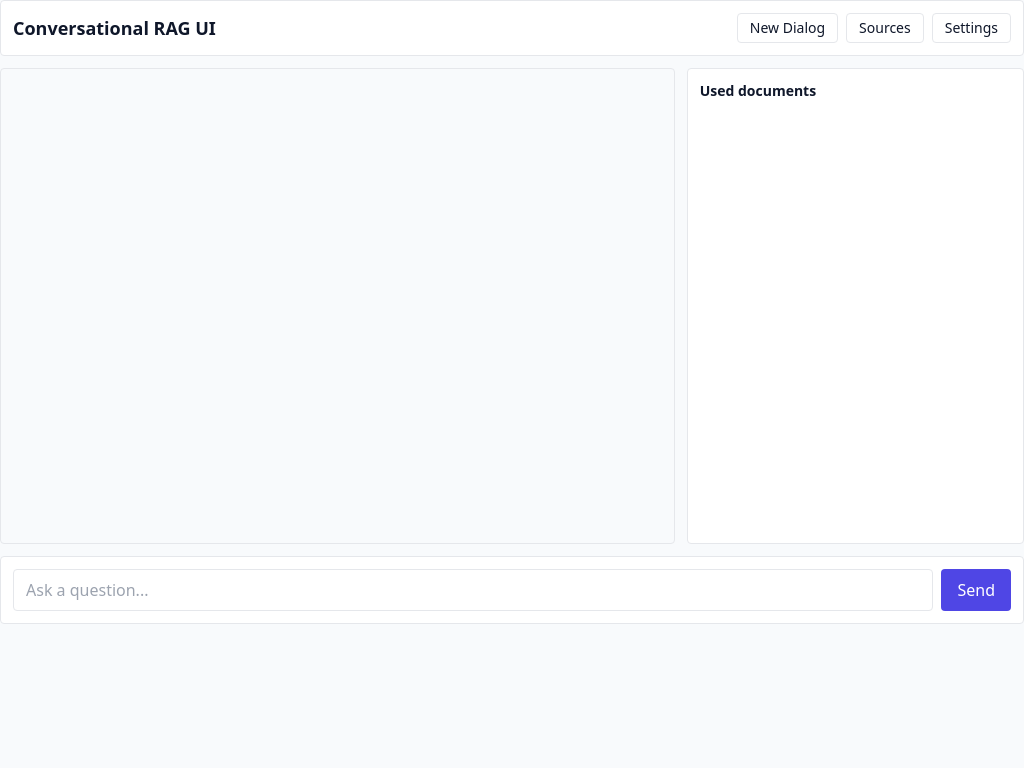
Test: QueryPage conversational UI › allows debug toggle for admin and renders debug fields with agent trace
Click the button "Settings".
click(971, 28)  # box [932,13,1011,43]
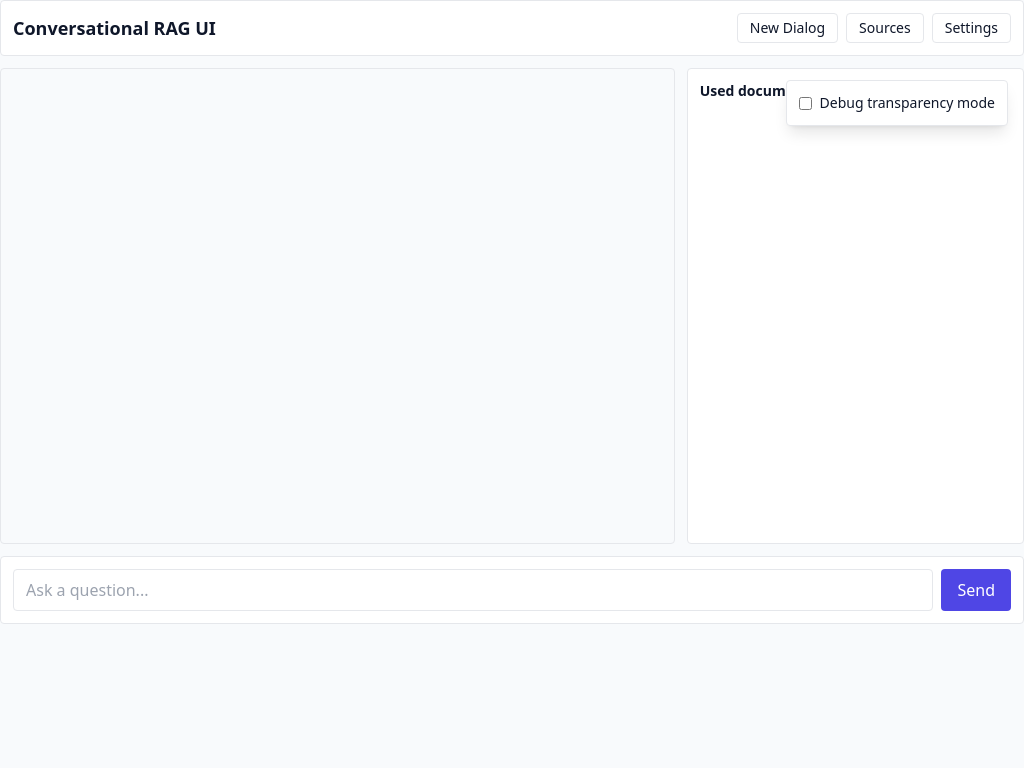
Click the checkbox labelled "Debug transparency mode".
click(805, 103)  # box [798,96,812,110]
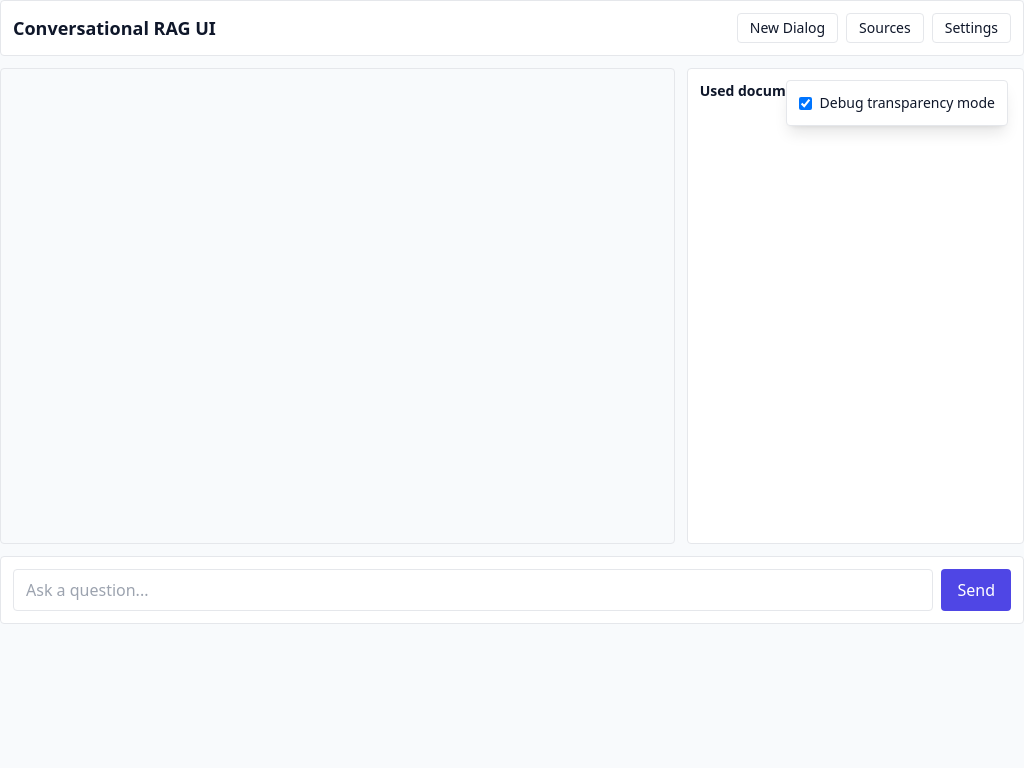
Type "q" into the field with placeholder "Ask a question...".
click(473, 590); type("q")  # box [13,569,934,611]
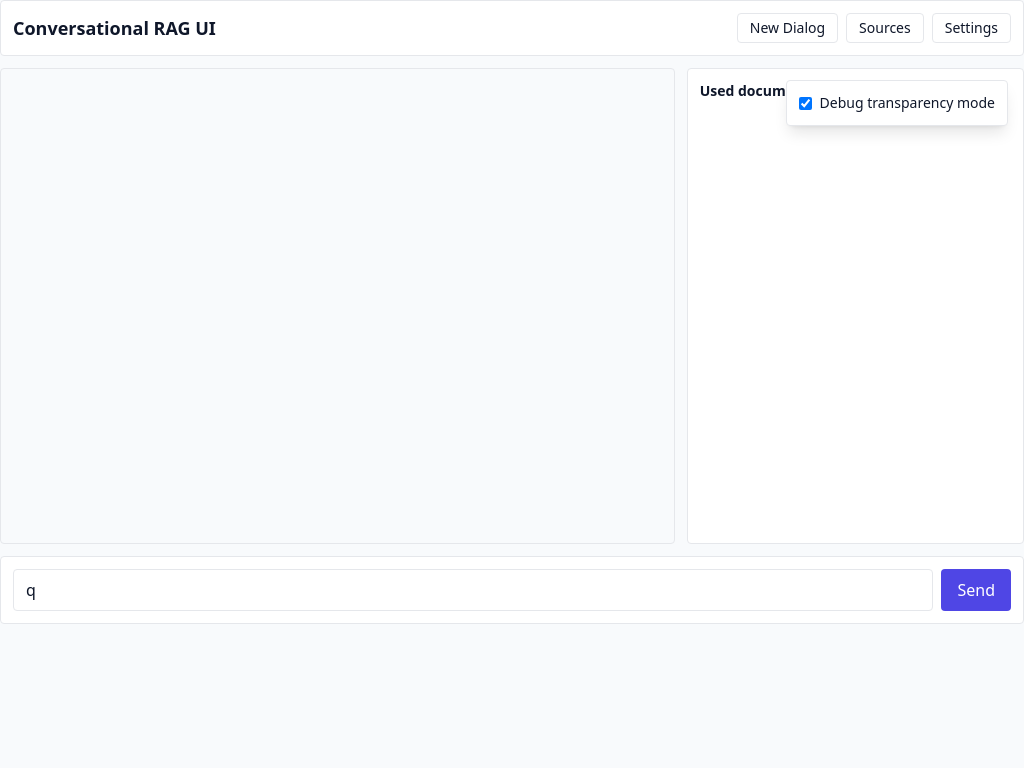
Click the button "Send".
click(976, 590)  # box [942,569,1011,611]
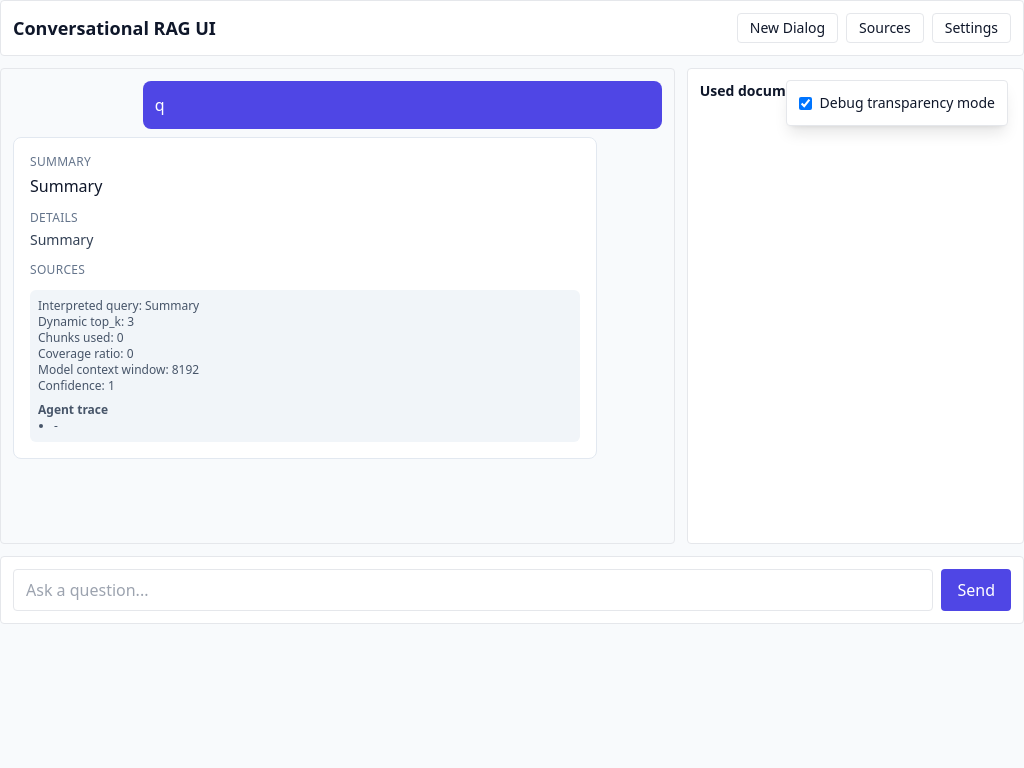
Expected: the text "Interpreted query: Summary" is shown, [38,297,199,314]
Expected: the text "Agent trace" is shown, [38,401,108,418]
Expected: the text "Dynamic top_k: 3" is shown, [38,313,134,330]
